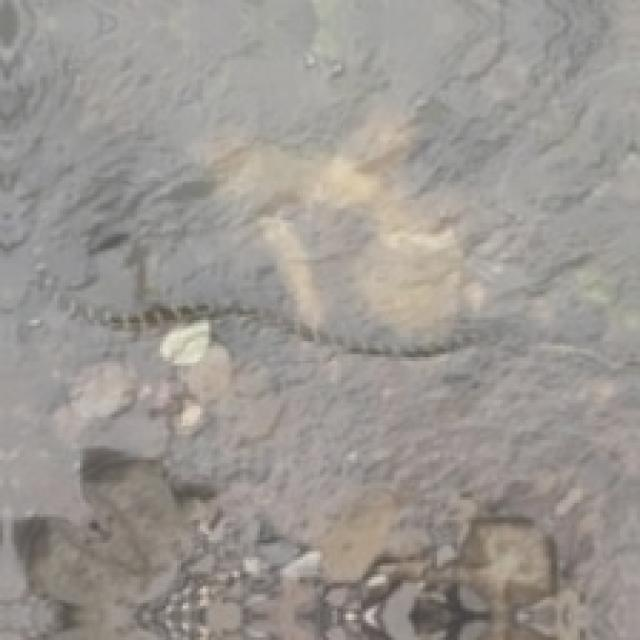mangrove cat snake: (60, 298, 606, 366)
